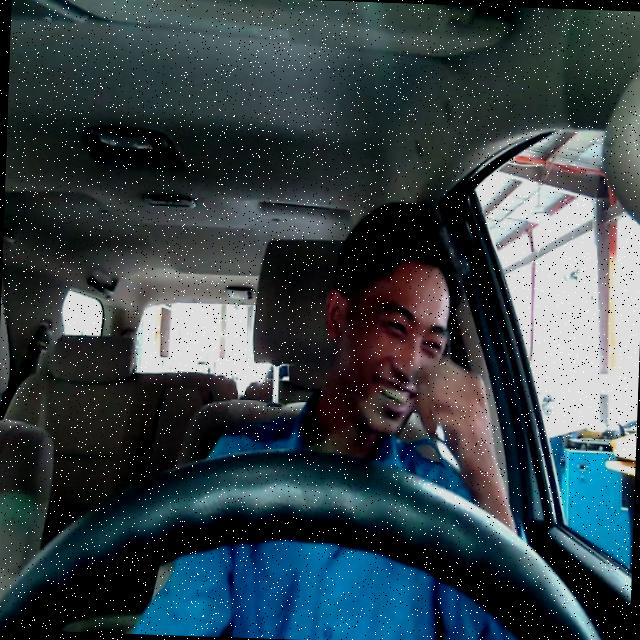focused: (318, 256, 454, 437)
